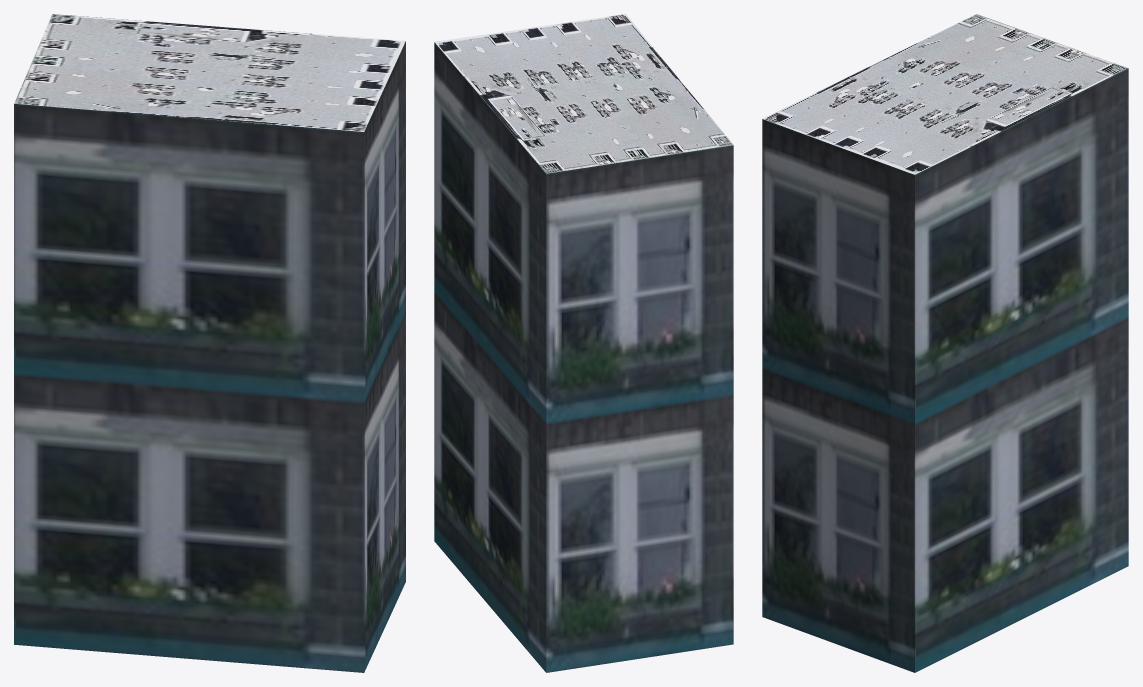
The model's file is ResTex__4970.fbx.
3 views of the same model, side by side, from view 1: azimuth 30°, elevation 25°; view 2: azimuth 150°, elevation 25°; view 3: azimuth 270°, elevation 25° (orthographic). The views are drawn at different scales.
Visible parts, largest first — view 1: CityEngineMaterial_11_m, CityEngineMaterial_2_m; view 2: CityEngineMaterial_11_m, CityEngineMaterial_2_m; view 3: CityEngineMaterial_11_m, CityEngineMaterial_2_m.
Boxes of the visible parts, <box> form: CityEngineMaterial_11_m: <box>14,41,405,672</box>; CityEngineMaterial_2_m: <box>14,14,405,131</box>; CityEngineMaterial_11_m: <box>434,42,733,672</box>; CityEngineMaterial_2_m: <box>434,14,733,173</box>; CityEngineMaterial_11_m: <box>762,68,1128,672</box>; CityEngineMaterial_2_m: <box>763,14,1127,174</box>.
Size of the model in its own units: 4.16 by 6 by 4.
2 materials, 2 textured.
